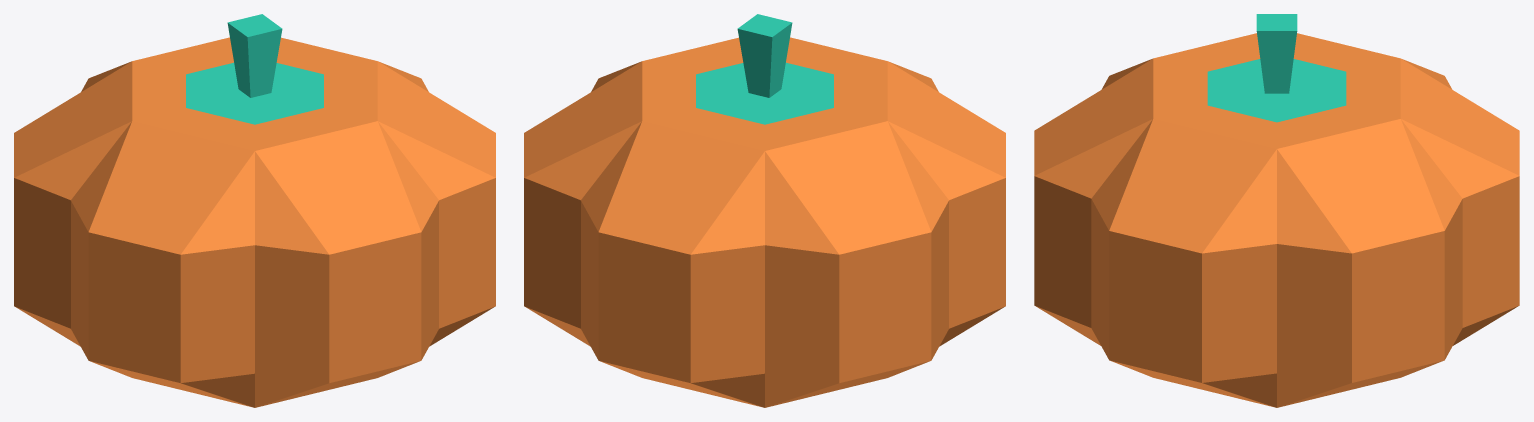
The model's file is crop_pumpkin.obj.
3 renders of one model, left to right at view 1: azimuth 30°, elevation 25°; view 2: azimuth 150°, elevation 25°; view 3: azimuth 270°, elevation 25°, orthographic.
Parts seen in each view (by area): view 1: crop_pumpkin; view 2: crop_pumpkin; view 3: crop_pumpkin.
Boxes of the visible parts, x1,y1,x2,y2 form: crop_pumpkin: [14, 14, 495, 407]; crop_pumpkin: [524, 14, 1005, 407]; crop_pumpkin: [1034, 14, 1519, 407].
Size of the model in its own units: 0.4413 by 0.3338 by 0.4519.
